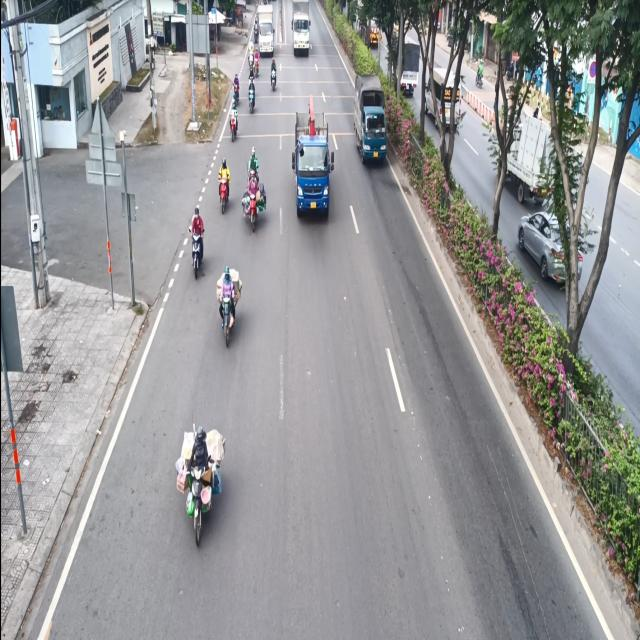motor: (187, 426, 211, 556), (190, 203, 204, 276), (220, 260, 232, 343), (218, 153, 231, 216), (248, 172, 259, 229), (230, 99, 240, 141)
truck: (293, 103, 332, 222), (352, 69, 391, 173), (290, 0, 312, 60), (256, 6, 276, 58)
